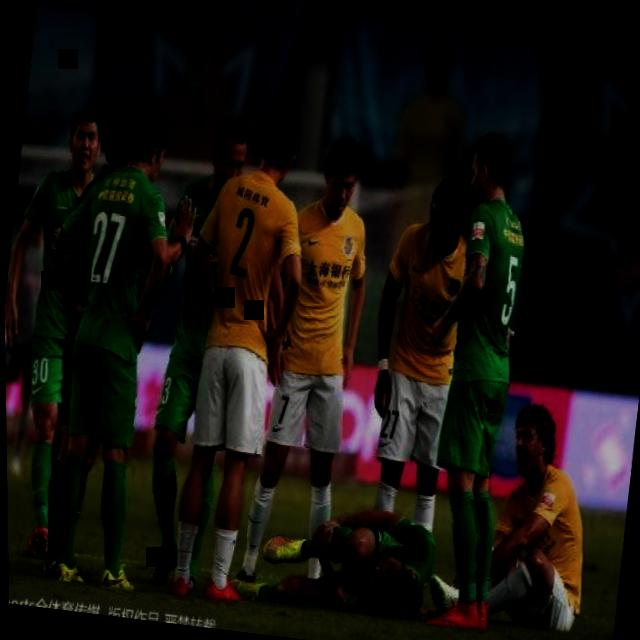Fall-Detected: (236, 482, 453, 634)
